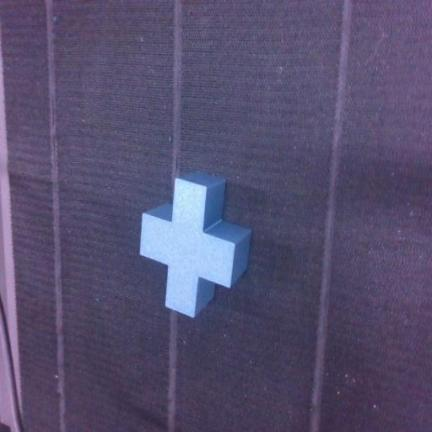cross: (141, 173, 250, 317)
